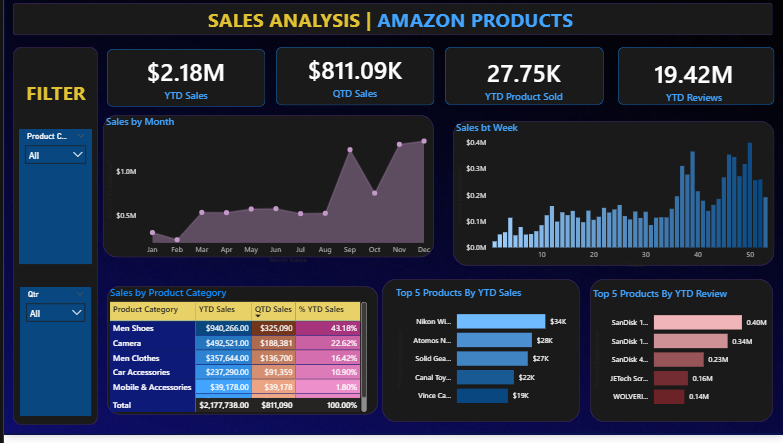

The dashboard page shown, as its layout file describes it:
{"tool":"powerbi","page":{"name":"Page 1","canvas":[1280,720],"ordinal":0},"visuals":[{"type":"shape","box":[169,85.8,260,95],"z":0,"group":"g1"},{"type":"shape","box":[14.1,10.6,1248.3,52.8],"z":0},{"type":"shape","box":[724.7,82.9,260.6,95.1],"z":1000,"group":"g1"},{"type":"textbox","box":[330.9,10.1,616.5,67.2],"z":1000},{"type":"card","fields":{"Values":["Amazon_Data.YTD Sales"]},"box":[175.4,86.4,246.5,95.1],"z":2000,"group":"g1"},{"type":"shape","box":[14.8,82.2,139.7,621.1],"z":2000},{"type":"shape","box":[447,82.8,260.4,95.7],"z":3000,"group":"g1"},{"type":"shape","box":[163.4,194.4,543.7,234],"z":3000},{"type":"card","fields":{"Values":["Amazon_Data.QTD Sales"]},"box":[467.7,82.9,216.6,95.1],"z":4000,"group":"g1"},{"type":"group","id":"g1","title":"Group 1","box":[169,82.8,1096.3,102.2],"z":4000},{"type":"shape","box":[1008.2,82.9,257.1,95.1],"z":5000,"group":"g1"},{"type":"areaChart","title":"Sales by Month","fields":{"Category":["Date Table.Month Name"],"Y":["Sum(Amazon_Data.Price(Dollar))"]},"box":[162.7,193.9,548.8,248.1],"z":5000},{"type":"card","fields":{"Values":["Amazon_Data.YTD Product Sold"]},"box":[745.9,88.2,216.6,95.1],"z":6000,"group":"g1"},{"type":"shape","box":[737.7,204.2,528.2,237.7],"z":6000},{"type":"card","fields":{"Values":["Amazon_Data.YTD Reviews"]},"box":[1025.8,90,216.6,95.1],"z":7000,"group":"g1"},{"type":"columnChart","title":"Sales bt Week","fields":{"Category":["Date Table.Week"],"Y":["Sum(Amazon_Data.Price(Dollar))"]},"box":[737,204.5,543,246.8],"z":7000},{"type":"shape","box":[168.6,474.8,445.6,211.6],"z":8000},{"type":"pivotTable","title":"Sales by Product Category","fields":{"Rows":["Amazon_Data.Product Category"],"Values":["Amazon_Data.YTD Sales1","Amazon_Data.QTD Sales","Amazon_Data.YTD Sales"]},"box":[168.6,474.8,431.8,211.6],"z":9000},{"type":"shape","box":[962.9,463.4,300.7,235],"z":10000},{"type":"shape","box":[621.1,463.4,325.3,235],"z":11000},{"type":"clusteredBarChart","title":"Top 5 Products By YTD Sales","fields":{"Category":["Amazon_Data.Product Description"],"Y":["Amazon_Data.YTD Sales"]},"box":[639.2,474.9,300.7,210.3],"z":12000},{"type":"clusteredBarChart","title":"Top 5 Products By YTD Review","fields":{"Category":["Amazon_Data.Product Description"],"Y":["Amazon_Data.YTD Reviews"]},"box":[962.9,476.5,300.7,210.3],"z":13000},{"type":"slicer","fields":{"Values":["Amazon_Data.Product Category"]},"box":[24.6,216.9,119.9,221.8],"z":14000},{"type":"slicer","fields":{"Values":["Date Table.Qtr"]},"box":[26.3,476.5,116.7,212],"z":16000},{"type":"textbox","box":[26.3,129.8,118.3,73.9],"z":16001}]}

Visuals, with their boxes in screenshot pixels (x1, y1, x2, y2), scaled from the page's 1280x720 canvas onto the 783x443 screenshot:
shape: l=103, t=53, r=262, b=111
shape: l=9, t=7, r=772, b=39
shape: l=443, t=51, r=603, b=110
textbox: l=202, t=6, r=580, b=48
card - Amazon_Data.YTD Sales: l=107, t=53, r=258, b=112
shape: l=9, t=51, r=95, b=433
shape: l=273, t=51, r=433, b=110
shape: l=100, t=120, r=433, b=264
card - Amazon_Data.QTD Sales: l=286, t=51, r=419, b=110
"Group 1" group: l=103, t=51, r=774, b=114
shape: l=617, t=51, r=774, b=110
"Sales by Month" areaChart: l=100, t=119, r=435, b=272
card - Amazon_Data.YTD Product Sold: l=456, t=54, r=589, b=113
shape: l=451, t=126, r=774, b=272
card - Amazon_Data.YTD Reviews: l=628, t=55, r=760, b=114
"Sales bt Week" columnChart: l=451, t=126, r=782, b=278
shape: l=103, t=292, r=376, b=422
"Sales by Product Category" pivotTable: l=103, t=292, r=367, b=422
shape: l=589, t=285, r=773, b=430
shape: l=380, t=285, r=579, b=430
"Top 5 Products By YTD Sales" clusteredBarChart: l=391, t=292, r=575, b=422
"Top 5 Products By YTD Review" clusteredBarChart: l=589, t=293, r=773, b=423
slicer - Amazon_Data.Product Category: l=15, t=133, r=88, b=270
slicer - Date Table.Qtr: l=16, t=293, r=87, b=424
textbox: l=16, t=80, r=88, b=125
